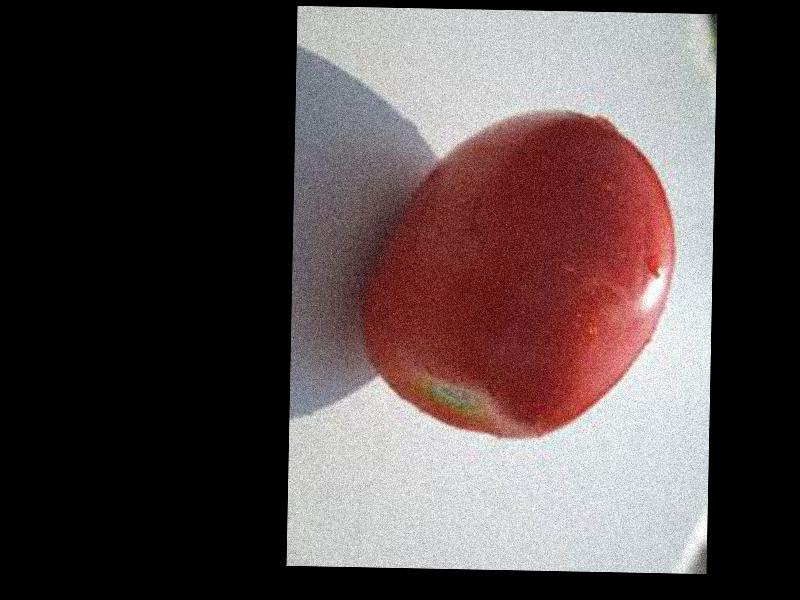Tomato: (362, 108, 678, 441)
